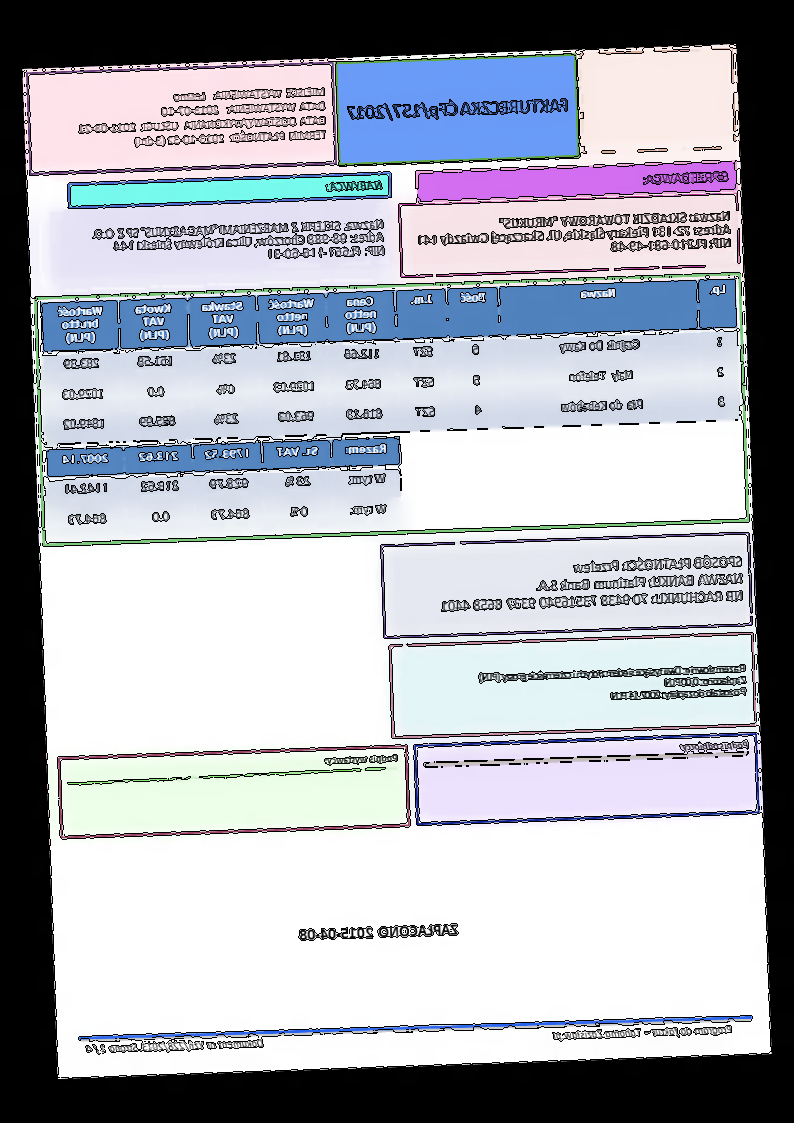Table: (42, 275, 743, 443), (44, 434, 406, 540)
TextBox: (436, 550, 749, 616), (416, 204, 735, 264), (73, 82, 333, 154), (89, 213, 389, 270), (474, 659, 749, 709), (344, 88, 576, 126), (550, 1017, 739, 1047), (295, 916, 466, 946), (80, 1035, 266, 1058), (641, 167, 734, 187), (677, 734, 752, 757), (323, 749, 406, 769), (326, 176, 386, 196)
